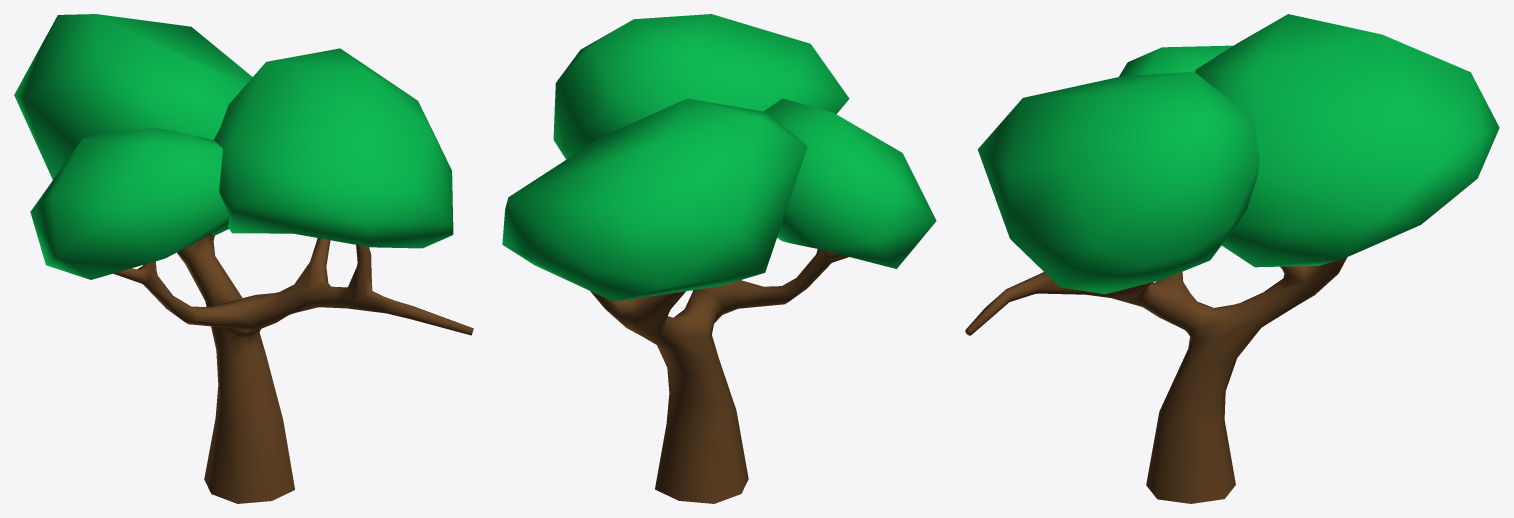
File: Tree_2.fbx
The picture shows the model from 3 angles, left to right: view 1: azimuth 30°, elevation 25°; view 2: azimuth 150°, elevation 25°; view 3: azimuth 270°, elevation 25°; orthographic projection. The views are drawn at different scales.
Visible parts, largest first — view 1: Tree_2; view 2: Tree_2; view 3: Tree_2.
Part boxes in pixels (box(x1,y1,x2,y2)): Tree_2: box(14, 14, 473, 503); Tree_2: box(502, 14, 936, 503); Tree_2: box(965, 14, 1499, 503).
Size of the model in its own units: 1461 by 1564 by 1792.
